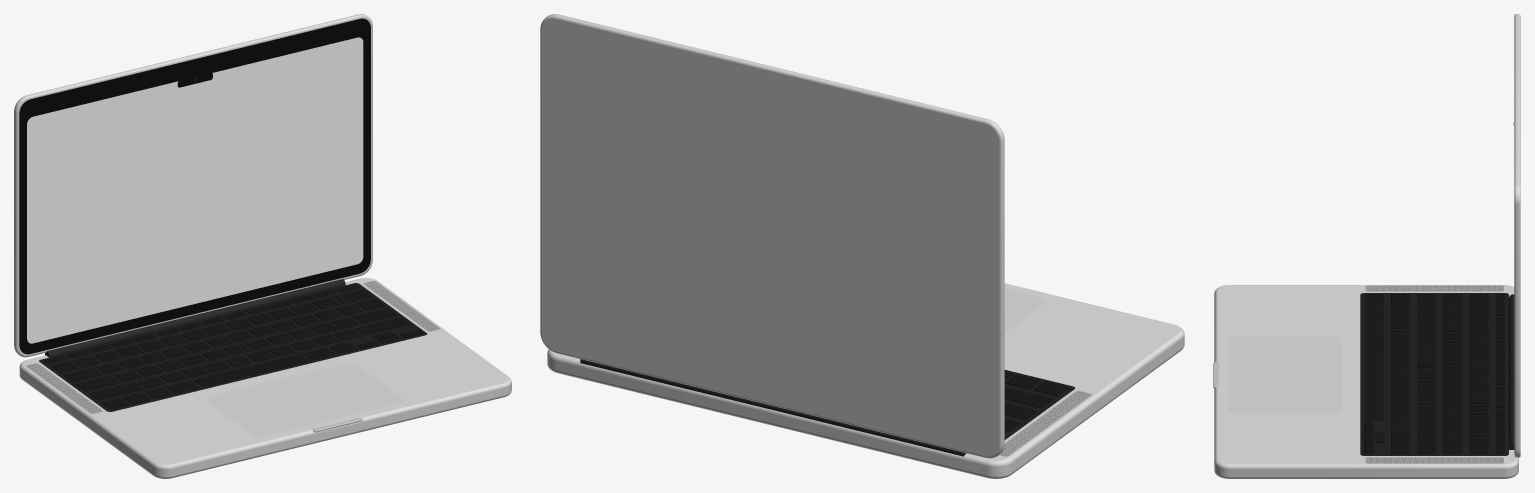
File: laptop.glb
3 renders of one model, left to right at view 1: azimuth 30°, elevation 25°; view 2: azimuth 150°, elevation 25°; view 3: azimuth 270°, elevation 25°, orthographic. The views are drawn at different scales.
Visible parts, largest first — view 1: screen, base, keys, bezel, well, pad, shell, hinge, grille1, grille-1; view 2: shell, base, hinge, keys, grille-1, well, pad; view 3: base, keys, well, pad, shell, grille1, grille-1, hinge.
Boxes of the visible parts, x1=… form: screen: x1=27, y1=37, x2=363, y2=343; base: x1=19, y1=278, x2=511, y2=478; keys: x1=43, y1=284, x2=422, y2=409; bezel: x1=19, y1=18, x2=370, y2=354; well: x1=39, y1=283, x2=427, y2=411; pad: x1=205, y1=363, x2=404, y2=436; shell: x1=14, y1=14, x2=372, y2=357; hinge: x1=45, y1=279, x2=345, y2=357; grille1: x1=363, y1=281, x2=440, y2=331; grille-1: x1=26, y1=363, x2=102, y2=413; shell: x1=540, y1=14, x2=1004, y2=458; base: x1=547, y1=283, x2=1184, y2=478; hinge: x1=580, y1=359, x2=966, y2=456; keys: x1=1004, y1=371, x2=1068, y2=431; grille-1: x1=999, y1=391, x2=1091, y2=456; well: x1=1004, y1=370, x2=1074, y2=439; pad: x1=1004, y1=289, x2=1045, y2=332; base: x1=1214, y1=285, x2=1518, y2=478; keys: x1=1364, y1=294, x2=1504, y2=453; well: x1=1360, y1=293, x2=1508, y2=455; pad: x1=1228, y1=336, x2=1341, y2=412; shell: x1=1514, y1=14, x2=1520, y2=457; grille1: x1=1365, y1=457, x2=1503, y2=463; grille-1: x1=1365, y1=285, x2=1503, y2=291; hinge: x1=1509, y1=294, x2=1514, y2=449.
Size of the model in its own units: 0.304 by 0.2265 by 0.2169.
11 materials, 1 textured.
